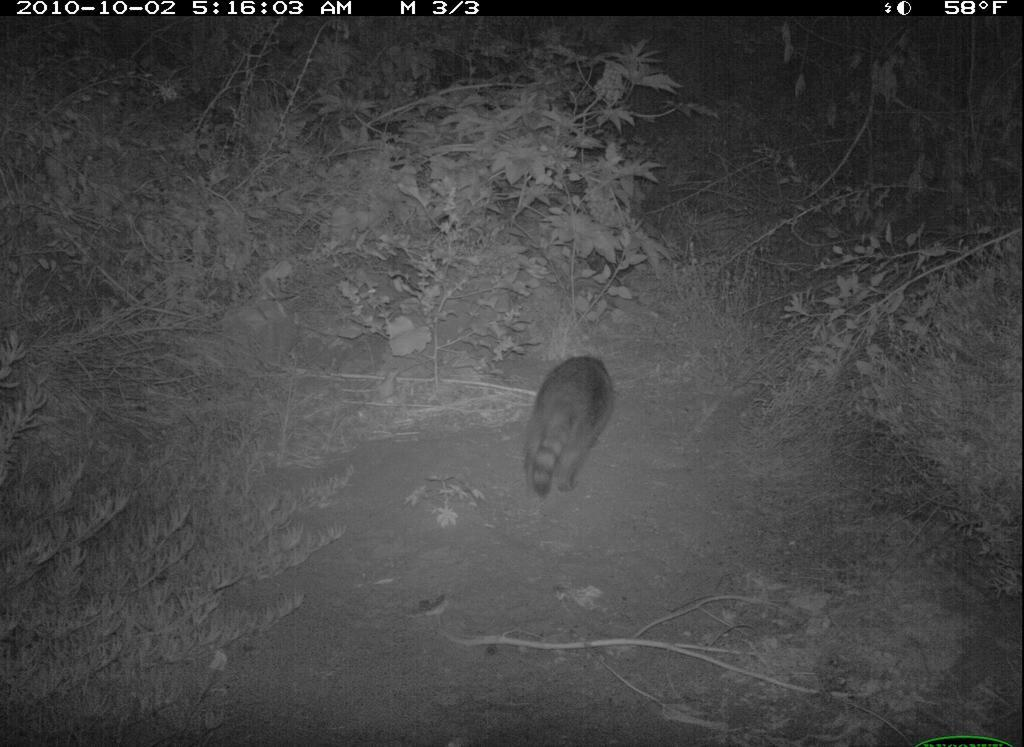raccoon: (513, 340, 623, 502)
